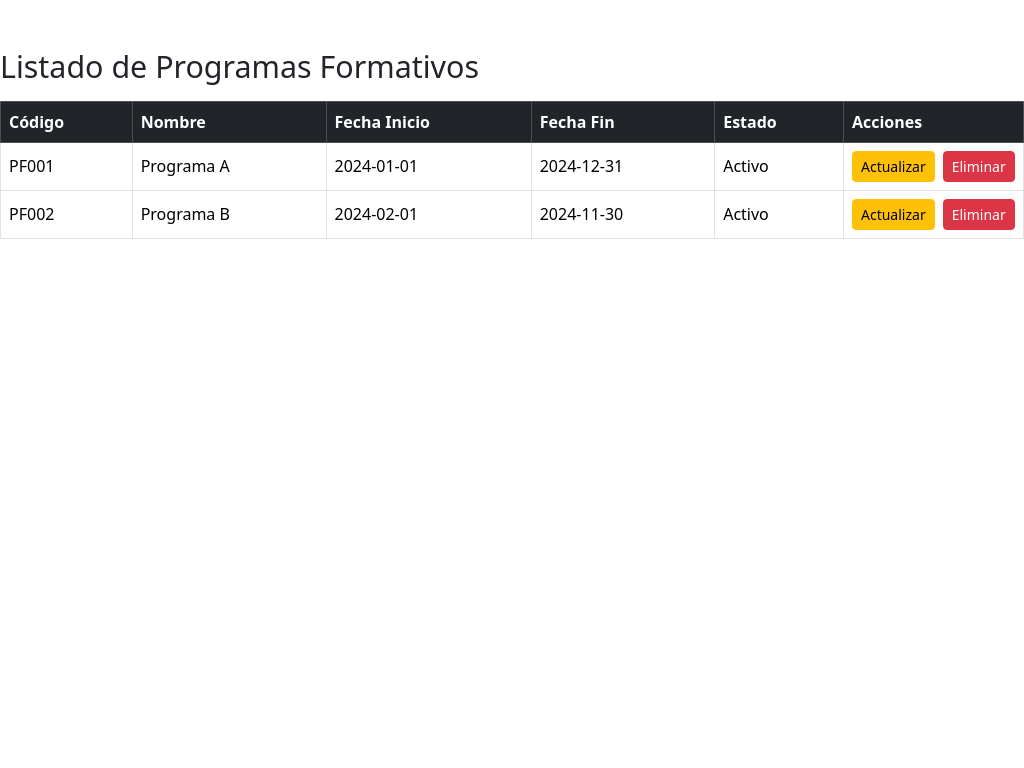
Test case: ProgramList › opens the confirmation modal when clicking Eliminar
The width and height of the screenshot is (1024, 768).
Click the button "Eliminar" in the row of "PF001". click: (979, 166)
box: [943,150,1015,182]
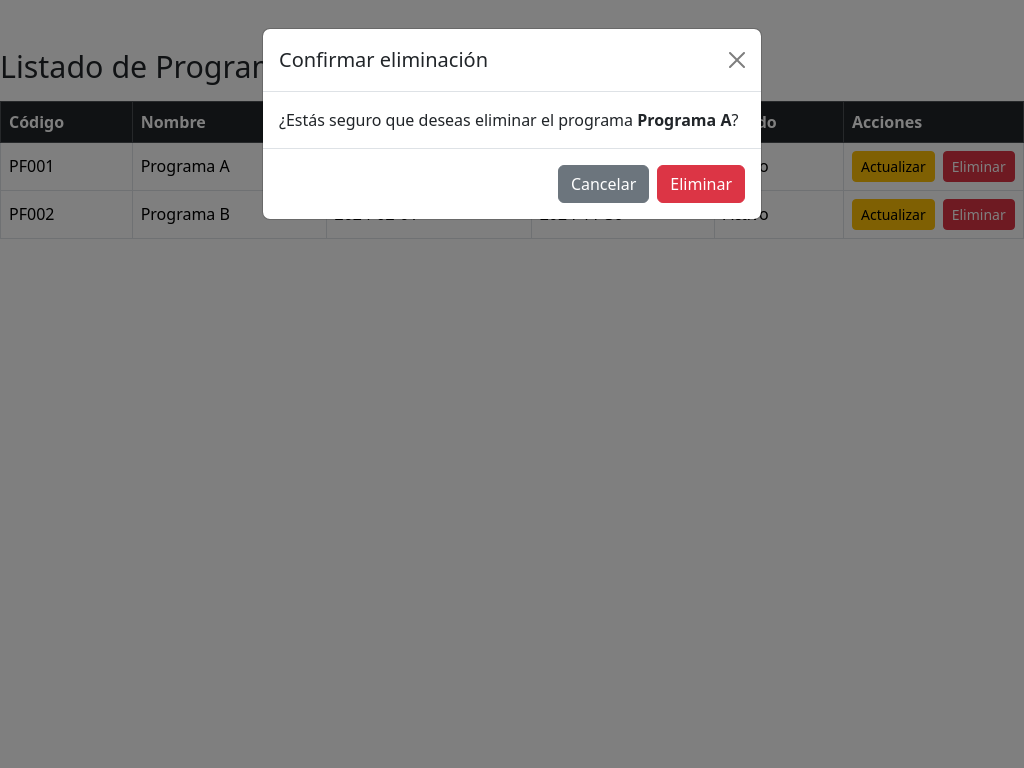
Expected: the text "¿Estás seguro que deseas eliminar el programa Programa A?" is shown, [279,109,738,131]
